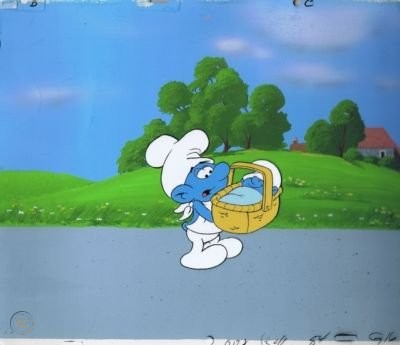smurf: (145, 129, 243, 271)
